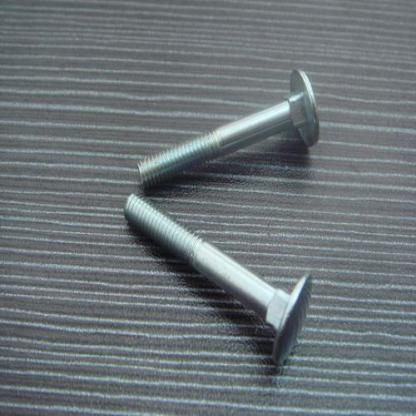FOD: (123, 192, 313, 370), (135, 65, 321, 192)
